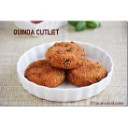cutlet: (24, 61, 66, 88), (47, 42, 88, 67), (71, 58, 104, 85)
